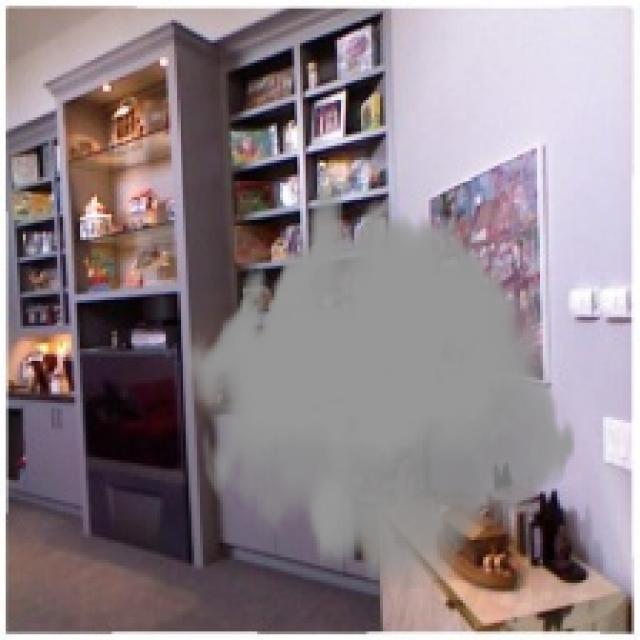Smoke: (182, 186, 578, 588)
